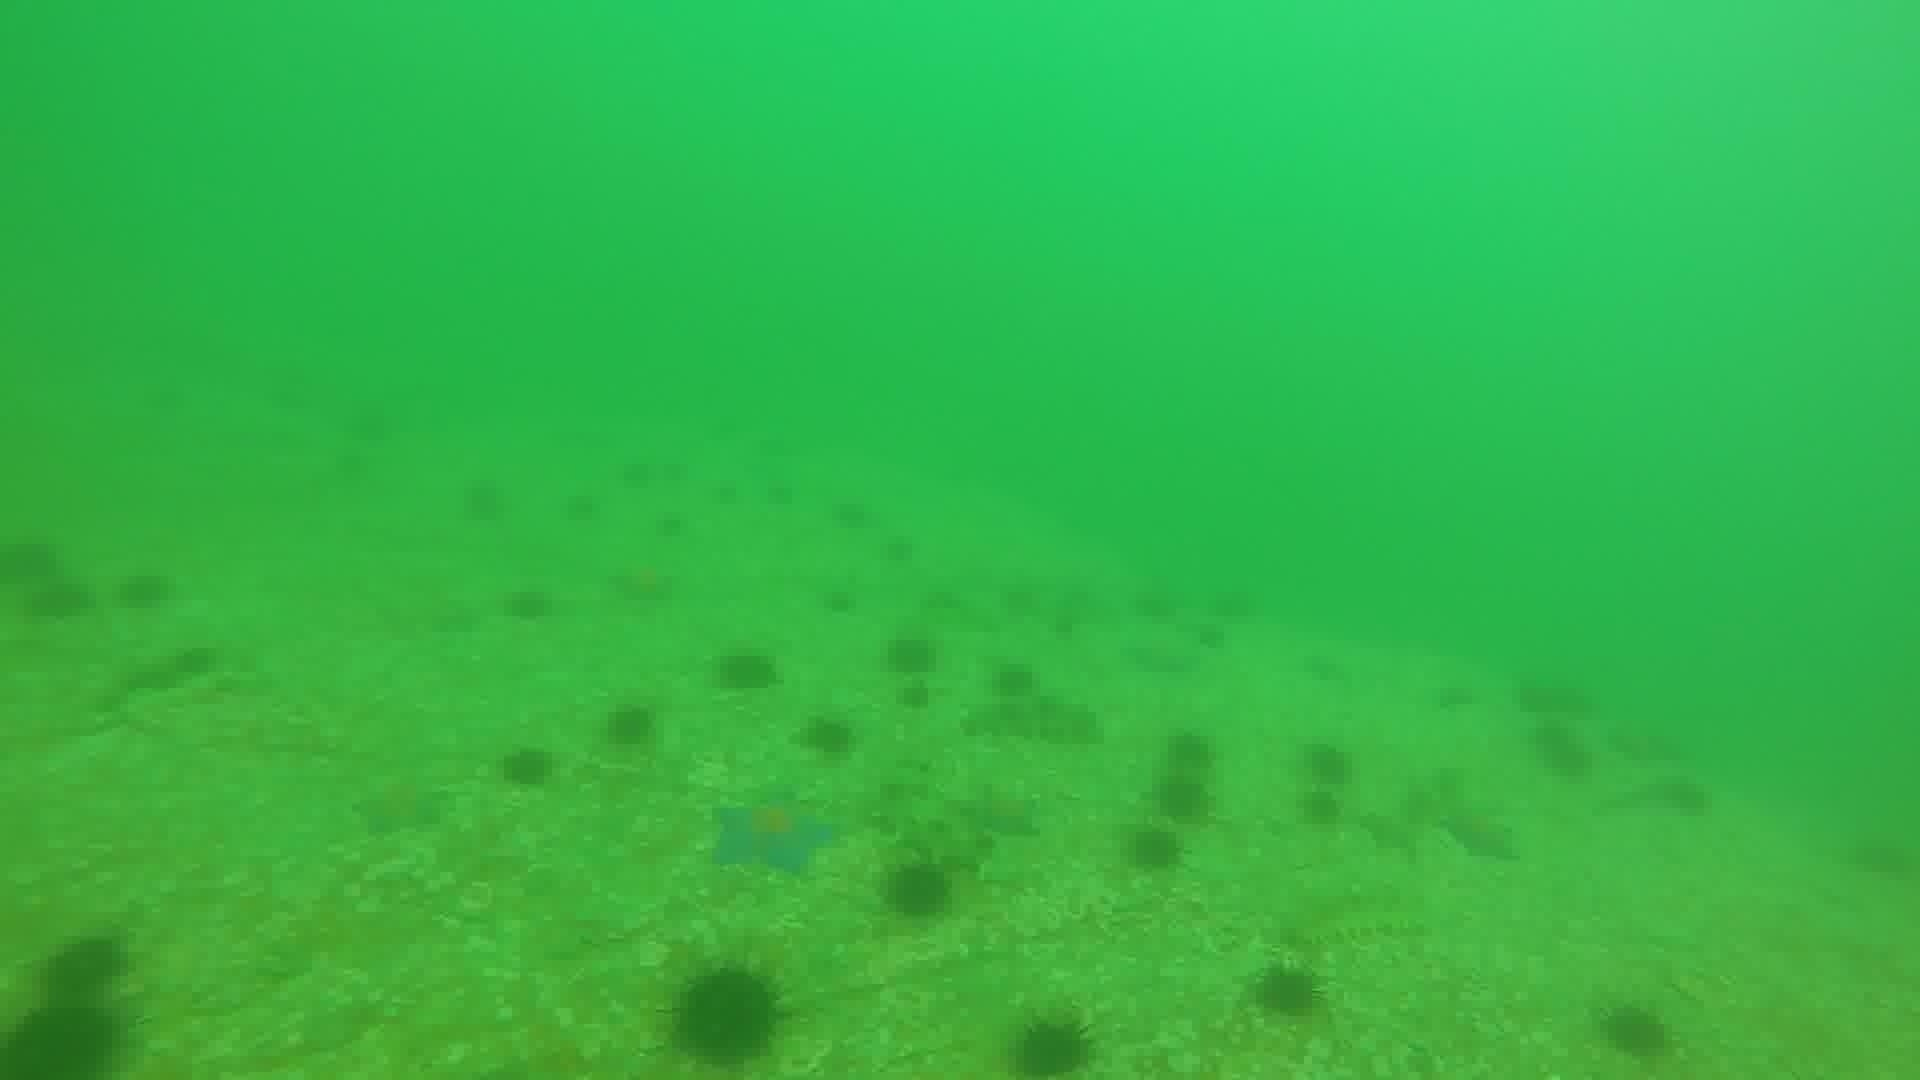echinus: (663, 960, 789, 1068), (7, 998, 125, 1075), (40, 930, 132, 1000), (1006, 1011, 1098, 1077), (878, 857, 957, 924), (1247, 957, 1327, 1023), (1597, 998, 1676, 1063), (1513, 669, 1596, 721), (1530, 719, 1596, 782), (18, 572, 92, 626), (711, 644, 782, 698), (1150, 769, 1216, 825), (1156, 727, 1220, 785), (1122, 822, 1187, 877), (796, 709, 858, 764), (495, 741, 558, 794), (1298, 737, 1357, 793), (600, 698, 661, 752), (881, 629, 942, 680), (115, 564, 175, 615), (1655, 771, 1716, 822), (458, 473, 512, 524), (1, 539, 65, 579), (986, 657, 1040, 703), (501, 582, 556, 626), (1295, 785, 1346, 831), (818, 498, 880, 537), (1630, 727, 1688, 764), (1302, 651, 1348, 684), (1130, 588, 1182, 617), (894, 679, 936, 713), (1000, 585, 1042, 618), (1218, 596, 1261, 626), (618, 463, 663, 489), (1058, 584, 1100, 612), (1435, 684, 1478, 711), (881, 533, 916, 562), (708, 473, 740, 505), (653, 509, 684, 539), (568, 493, 601, 522), (1185, 622, 1225, 646), (923, 587, 963, 609), (825, 588, 856, 612), (764, 484, 793, 508), (659, 462, 686, 487)
holothurian: (1287, 890, 1433, 953), (963, 686, 1102, 749)
starfish: (708, 790, 843, 880), (349, 771, 450, 840), (955, 781, 1044, 843), (1435, 800, 1520, 865), (605, 556, 679, 608), (1358, 807, 1425, 858)
